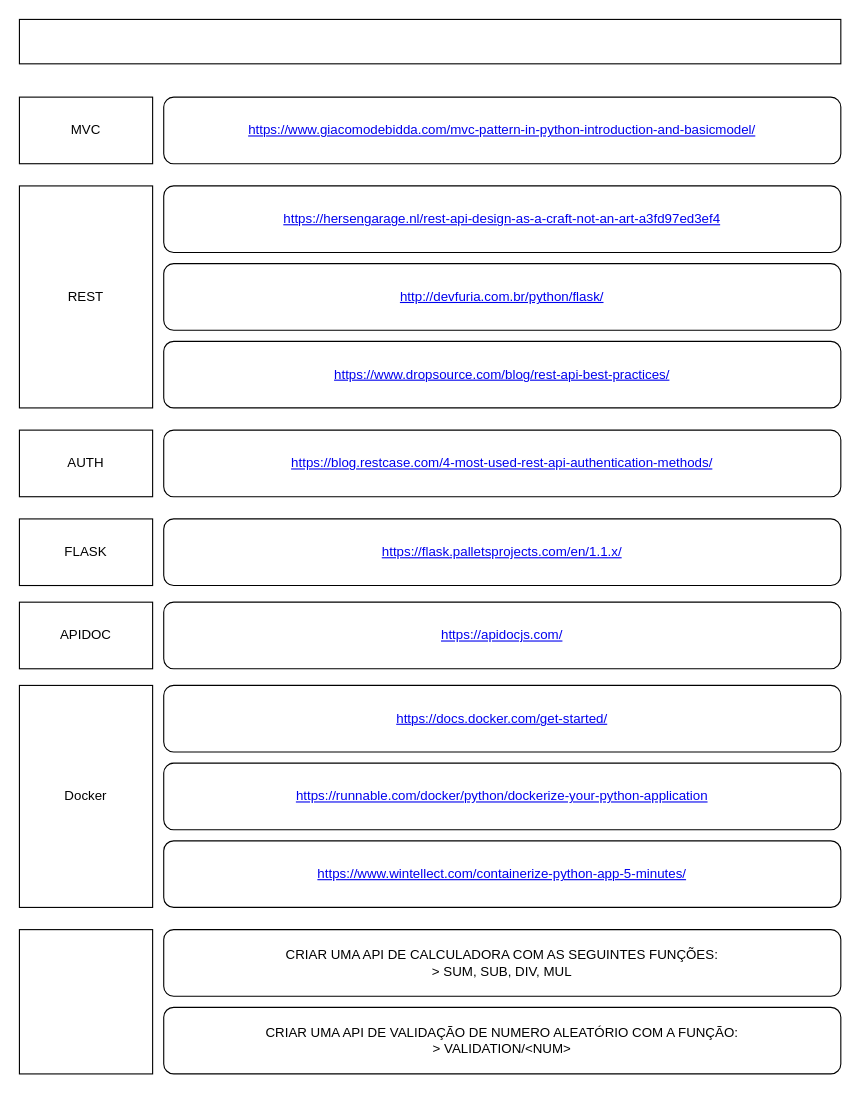
Image size: 860x1093. Some labels were removed from this diagram. Here are the shapes that lost their labels. From the top down, the centre of each, then its label:
At [429,41]: "WORKSHOP API BACKEND".
At [85,1001]: "Desafios".
